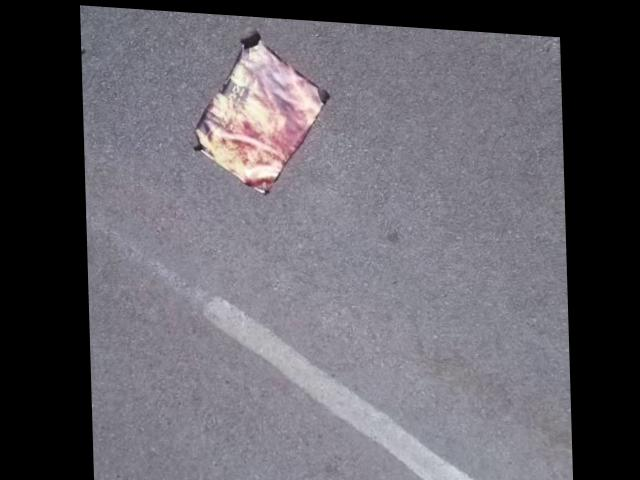fire-poster: (187, 22, 333, 195)
